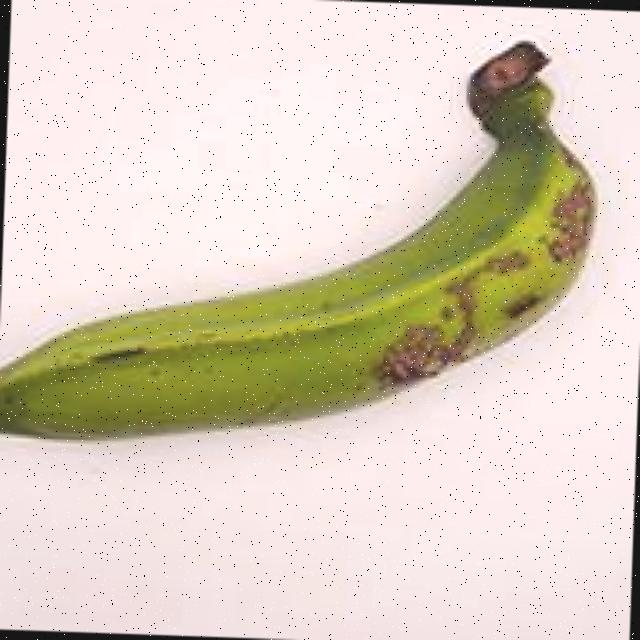Raw: (0, 12, 633, 501)
